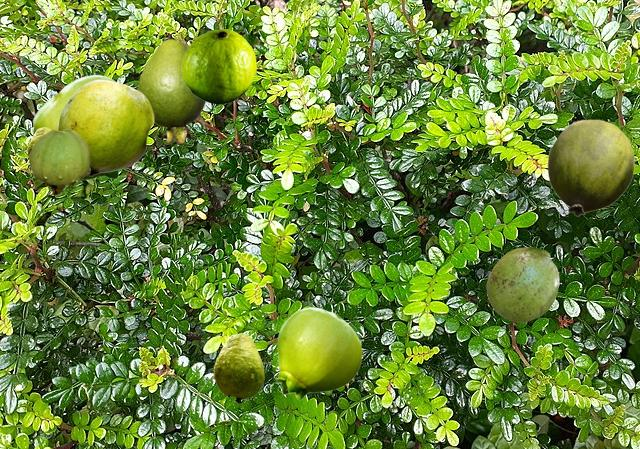guava: (32, 74, 119, 179), (58, 79, 153, 175), (547, 119, 634, 215), (276, 307, 361, 399), (138, 39, 205, 144), (181, 29, 255, 103), (486, 247, 558, 321), (29, 129, 89, 194), (213, 333, 263, 402), (27, 127, 51, 158)
